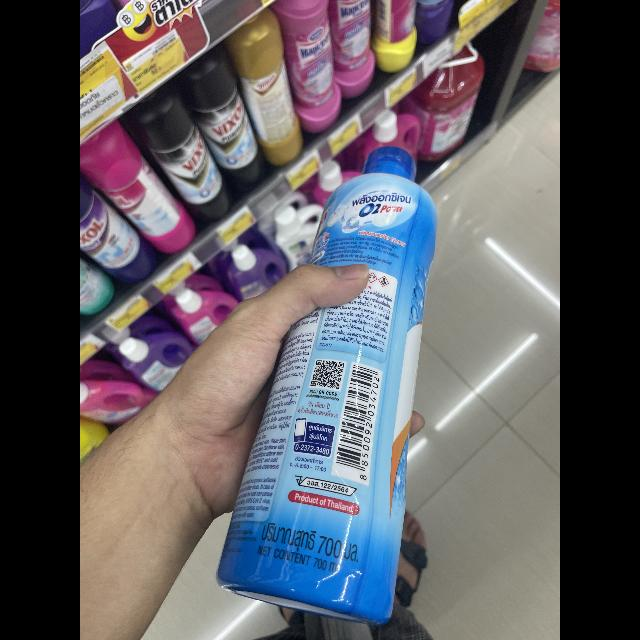chemical_plastic_bottle: (212, 135, 446, 632)
